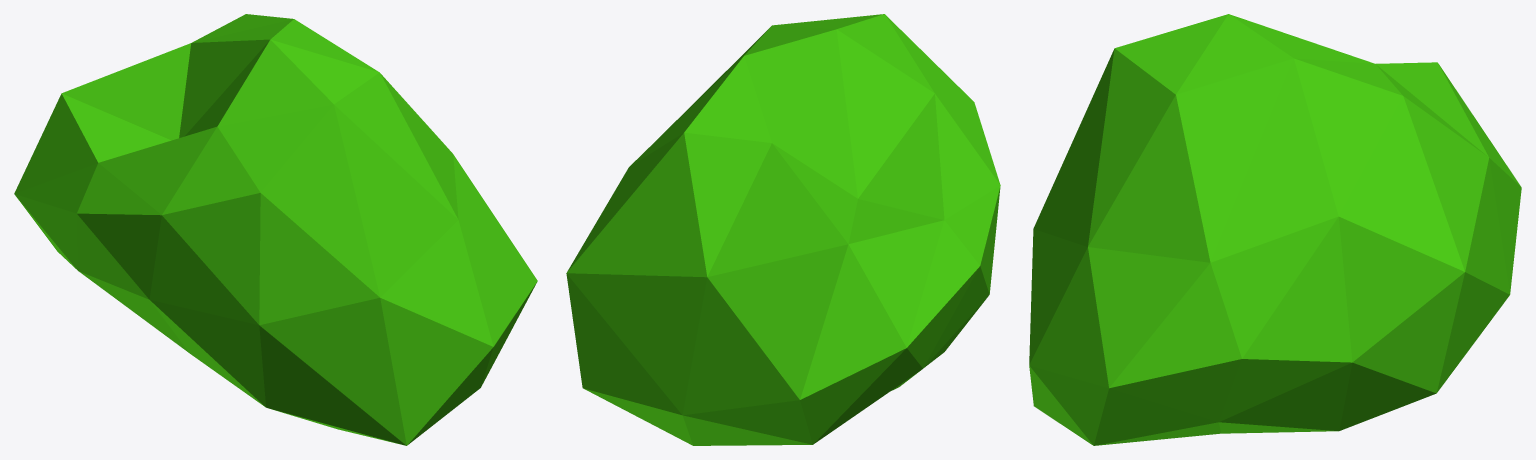
Rendered from lp_tree1_Icosphere_017.obj.
3 renders of one model, left to right at view 1: azimuth 30°, elevation 25°; view 2: azimuth 150°, elevation 25°; view 3: azimuth 270°, elevation 25°, orthographic. The views are drawn at different scales.
Parts seen in each view (by area): view 1: lp_tree1_Icosphere_017; view 2: lp_tree1_Icosphere_017; view 3: lp_tree1_Icosphere_017.
Part boxes in pixels (x1,y1,x2,y2): lp_tree1_Icosphere_017: [14, 14, 537, 445]; lp_tree1_Icosphere_017: [566, 14, 1000, 445]; lp_tree1_Icosphere_017: [1029, 14, 1521, 445].
Bounding box in the file's own units: 5.09 × 4.84 × 5.5.
